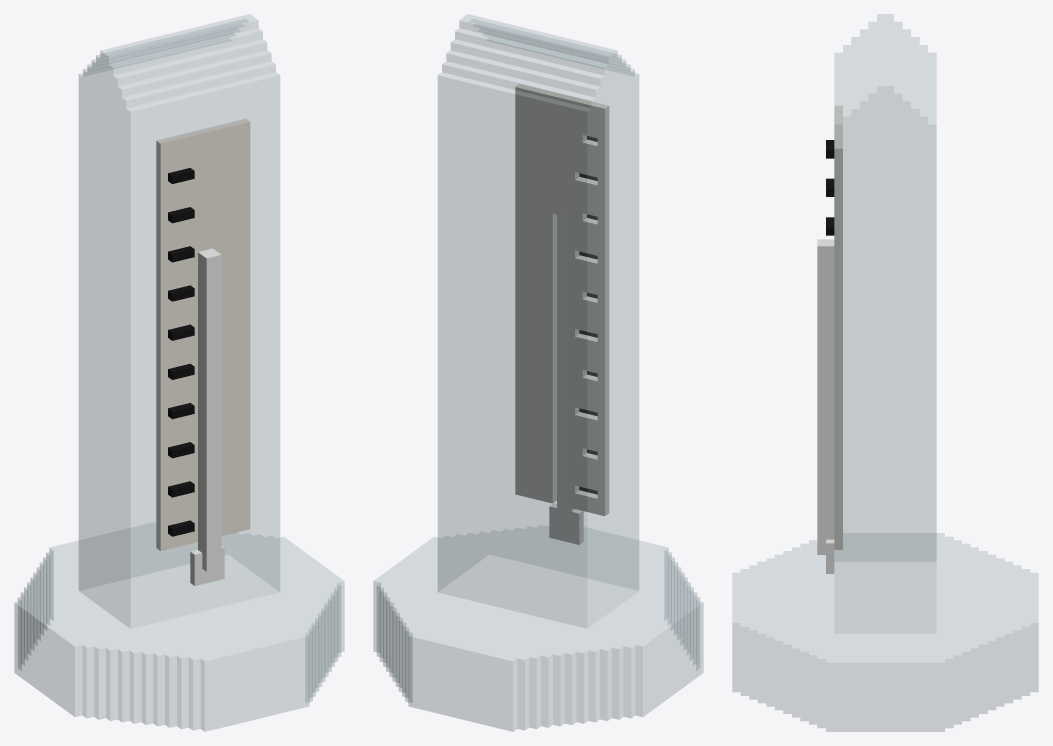
File: glass_thermometer.glb
3 renders of one model, left to right at view 1: azimuth 30°, elevation 25°; view 2: azimuth 150°, elevation 25°; view 3: azimuth 270°, elevation 25°, orthographic.
Visible parts, largest first — view 1: glass_thermometer:compound; view 2: glass_thermometer:compound; view 3: glass_thermometer:compound.
Part boxes in pixels (box(x1,y1,x2,y2)): glass_thermometer:compound: box(14, 14, 344, 731); glass_thermometer:compound: box(373, 14, 703, 731); glass_thermometer:compound: box(732, 14, 1038, 731).
Size of the model in its own units: 0.072 by 0.16 by 0.072.
